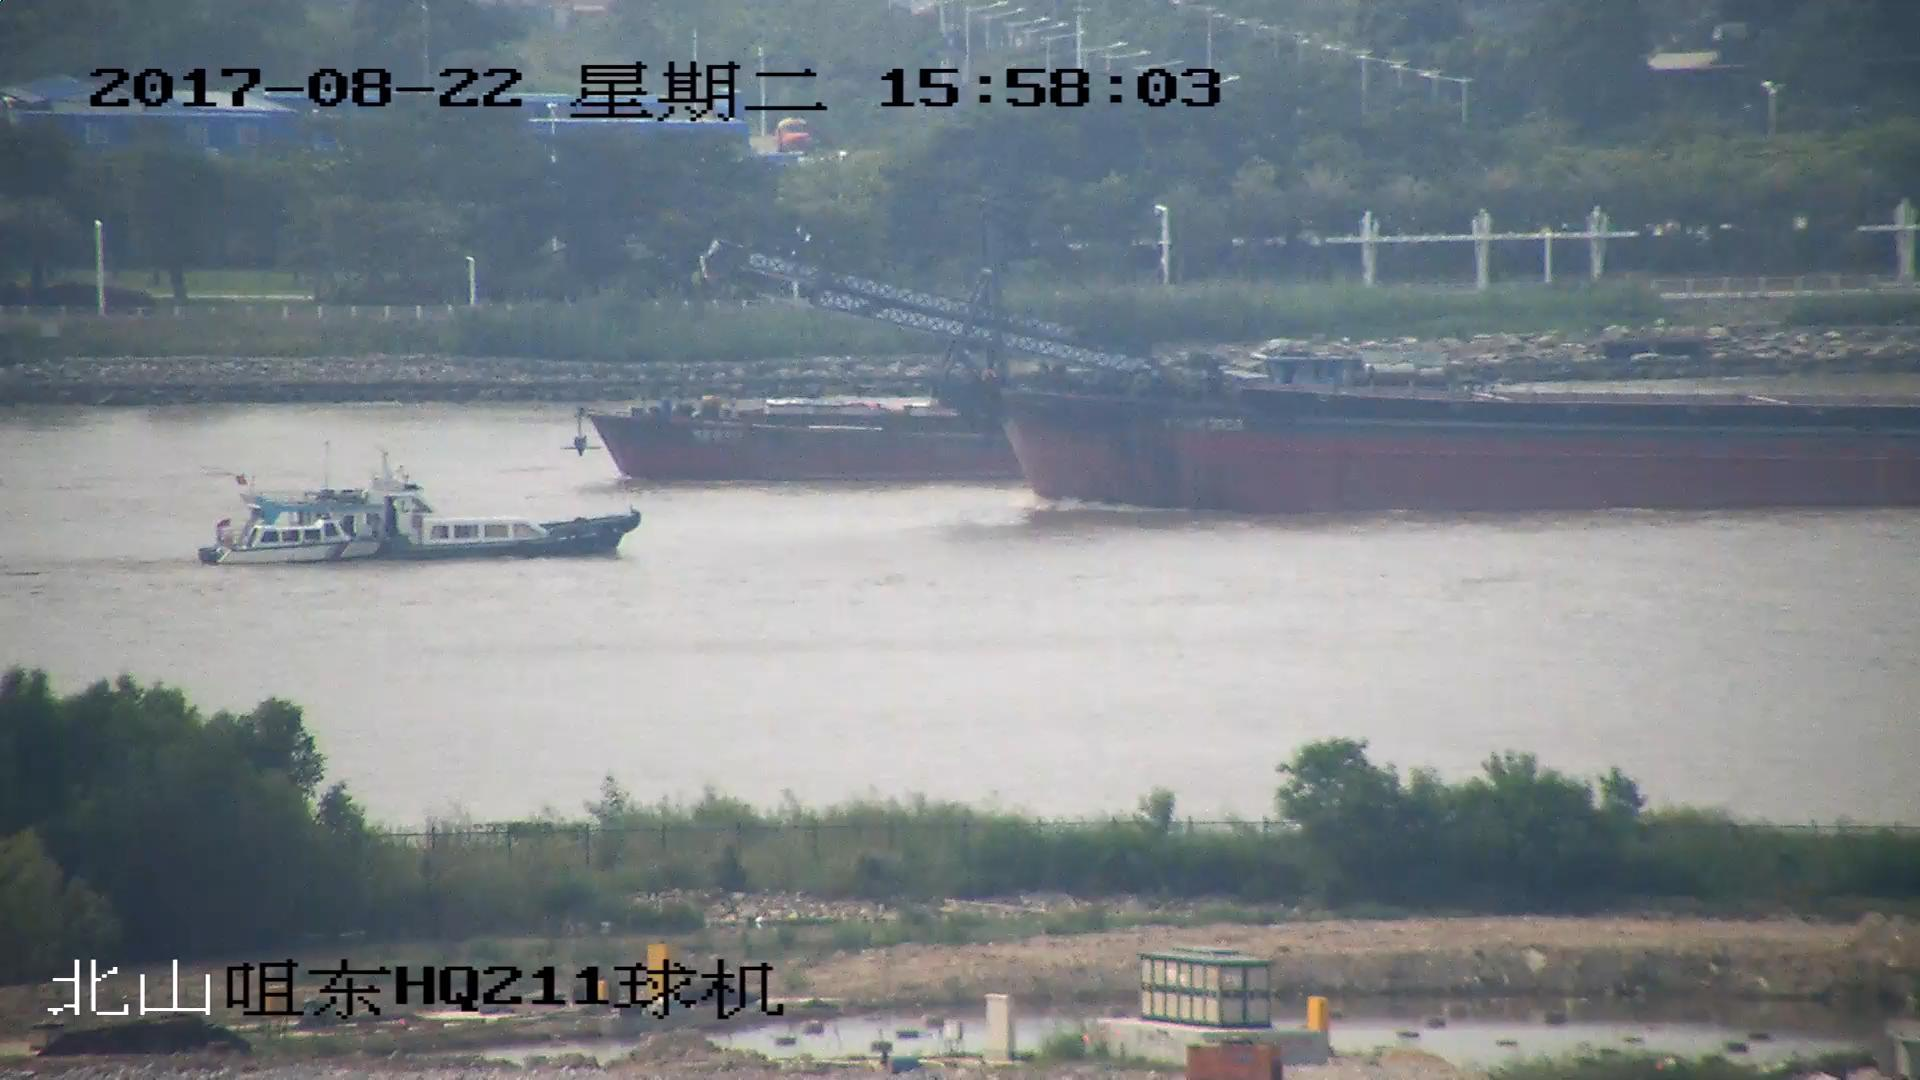Ship: (713, 243, 1920, 514), (190, 468, 641, 568), (571, 394, 1034, 483)
